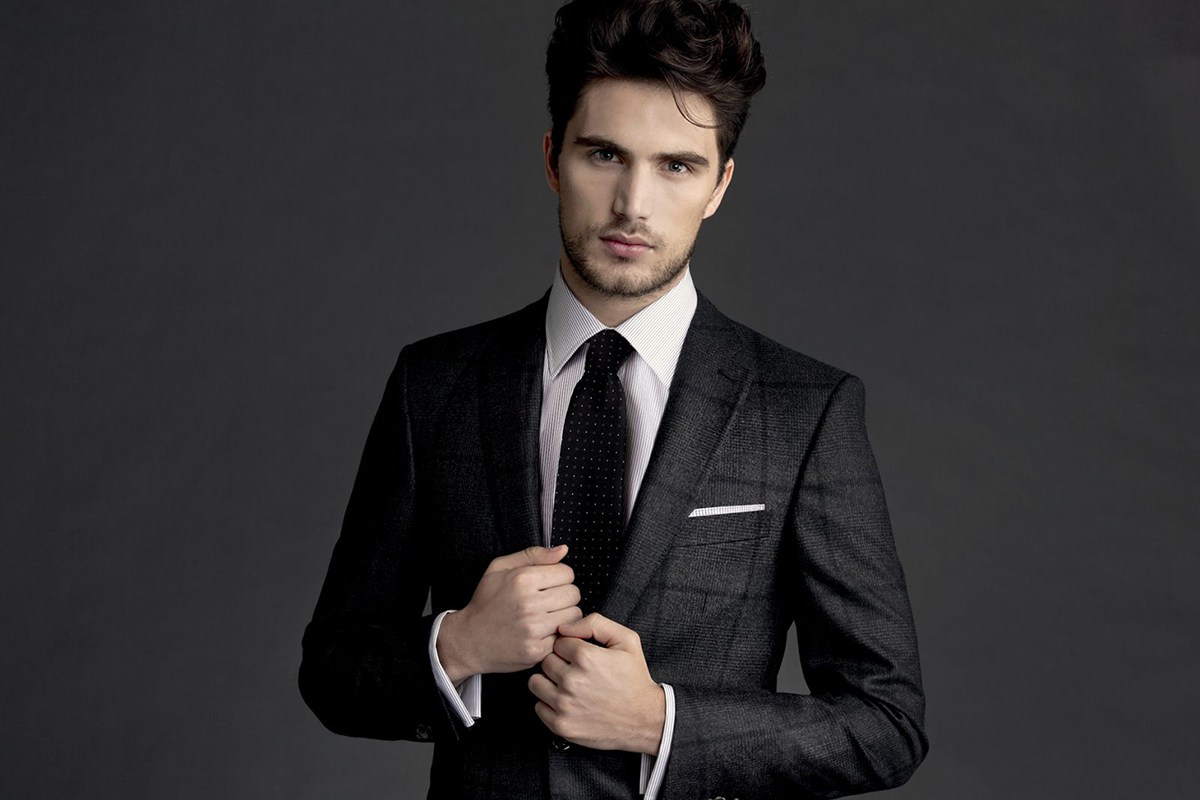tie: (543, 319, 670, 625)
